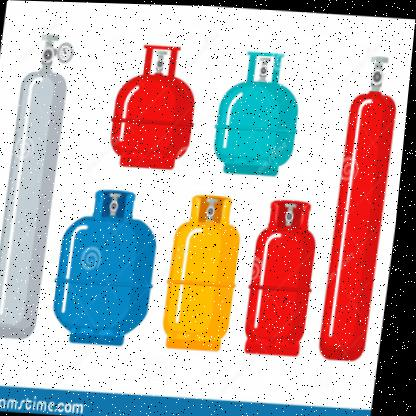gas-tank: (51, 177, 175, 352), (105, 24, 212, 179), (161, 185, 256, 359), (245, 189, 332, 360), (211, 33, 312, 177)
